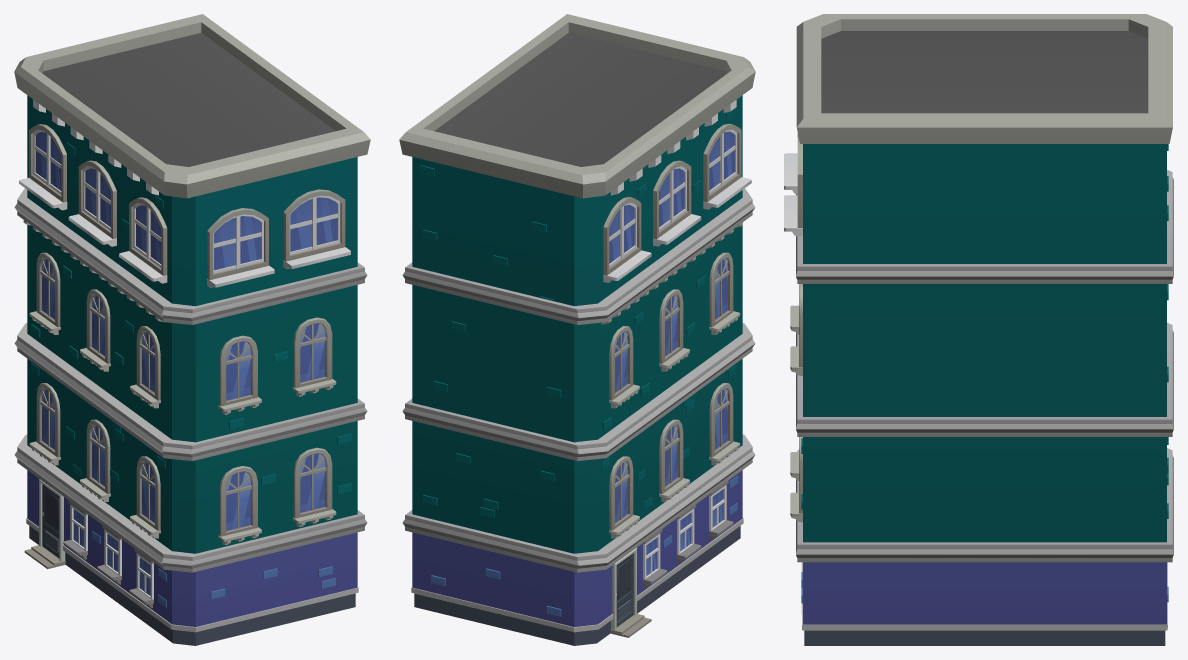
File: Building_18_2_J.fbx
3 renders of one model, left to right at view 1: azimuth 30°, elevation 25°; view 2: azimuth 150°, elevation 25°; view 3: azimuth 270°, elevation 25°, orthographic. The views are drawn at different scales.
Parts seen in each view (by area): view 1: Building_18_2_J; view 2: Building_18_2_J; view 3: Building_18_2_J.
Boxes of the visible parts, x1,y1,x2,y2 form: Building_18_2_J: (14,14,370,645); Building_18_2_J: (399,14,755,645); Building_18_2_J: (784,14,1173,645).
Bounding box in the file's own units: 719 × 1594 × 1059.
